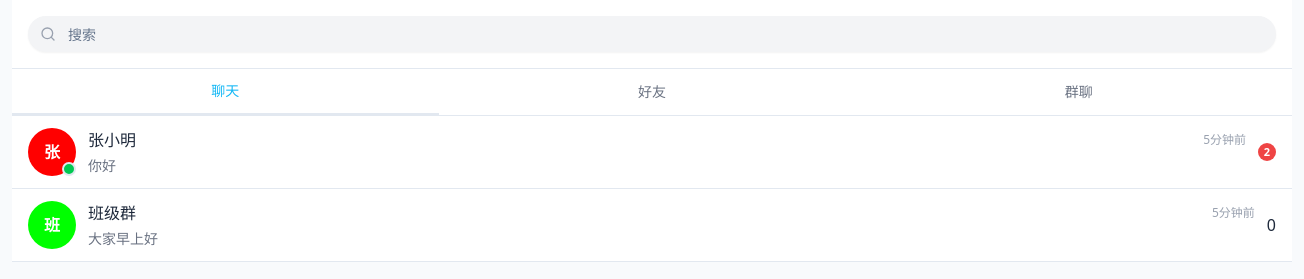
it: ChatList › shows empty state when no conversations match
Type "不存在的人" into the field with placeholder "搜索".
click(652, 34); type("不存在的人")  # box [28,16,1276,52]
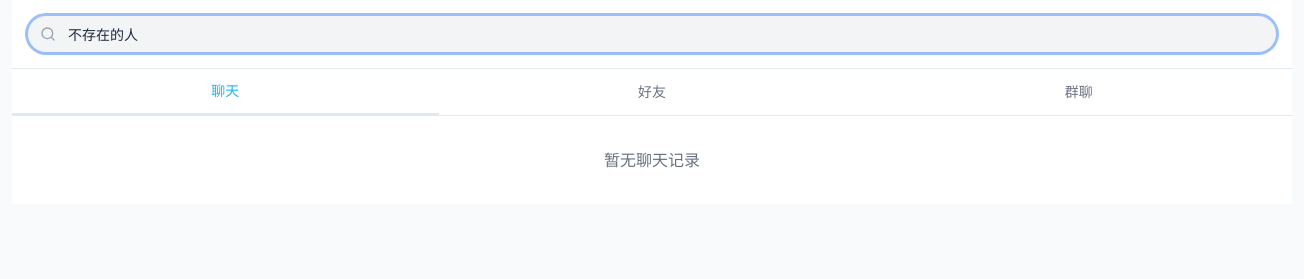
Expected: the text "暂无聊天记录" is shown, [604,149,700,171]
